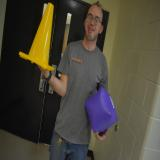cone: (18, 2, 54, 70)
cube: (84, 86, 118, 132)
